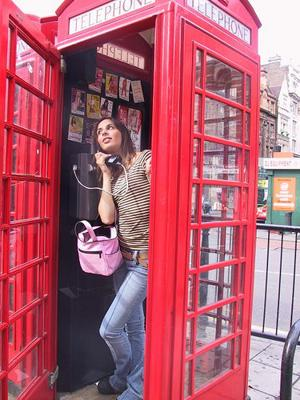person: (76, 114, 153, 398)
